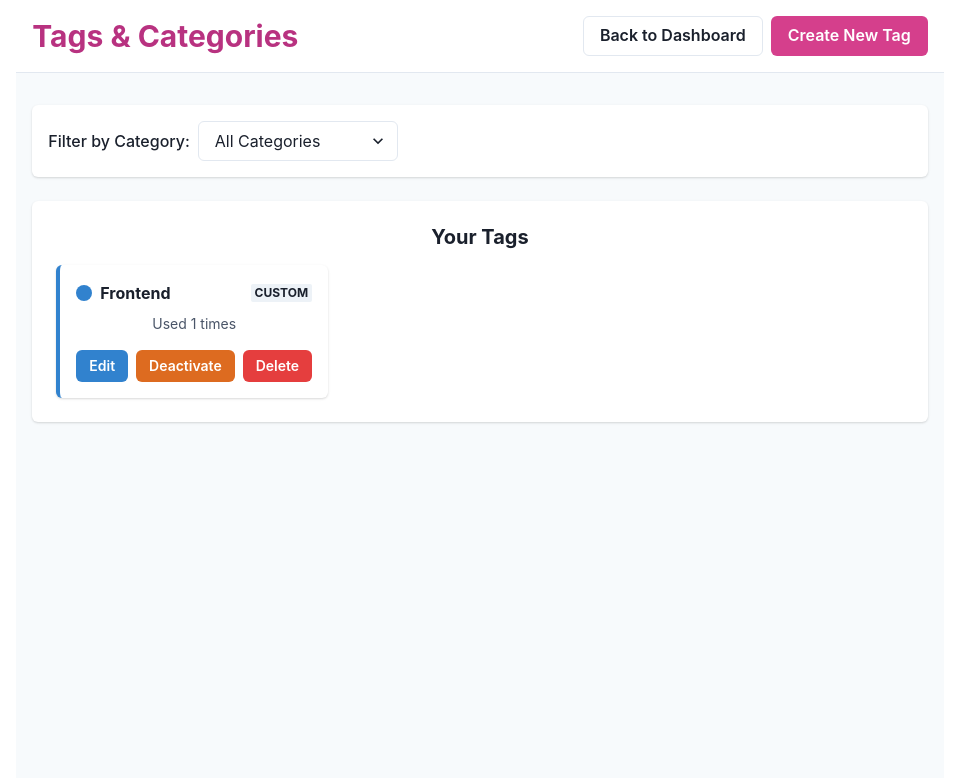
Test case: Tags page › deactivates a tag and shows a success toast
expect the text "Frontend" is shown: met, box [100,281,171,305]
Click the button "Deactivate" at (185, 366), box [136,350,235,382]
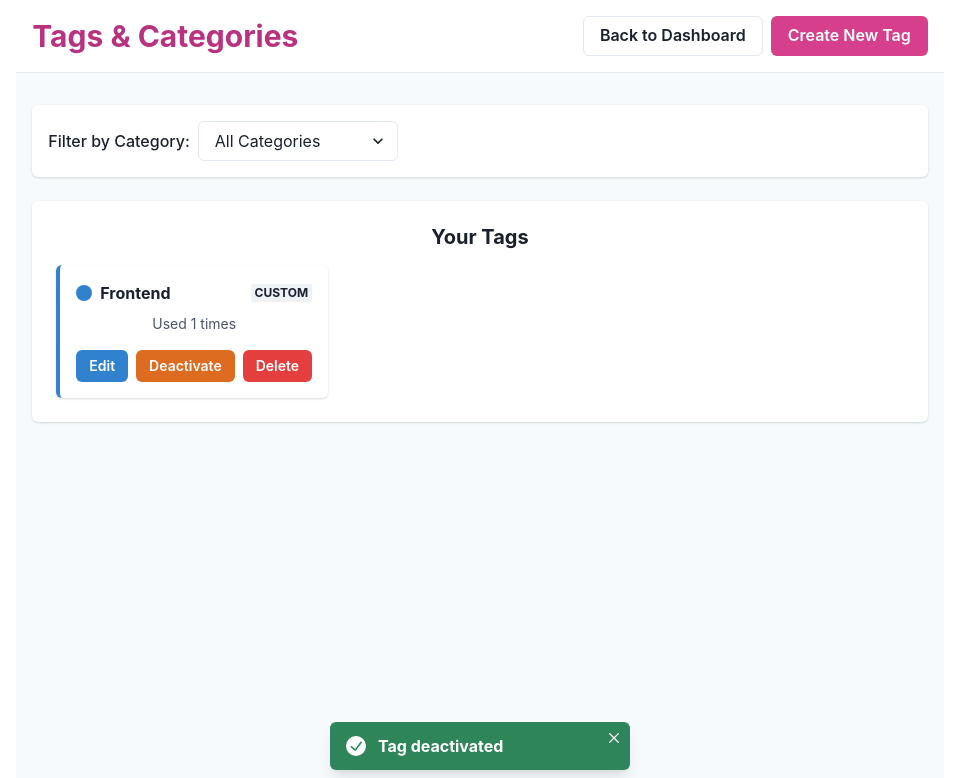
expect the text "Tag deactivated" is shown: met, box [378,736,503,756]
